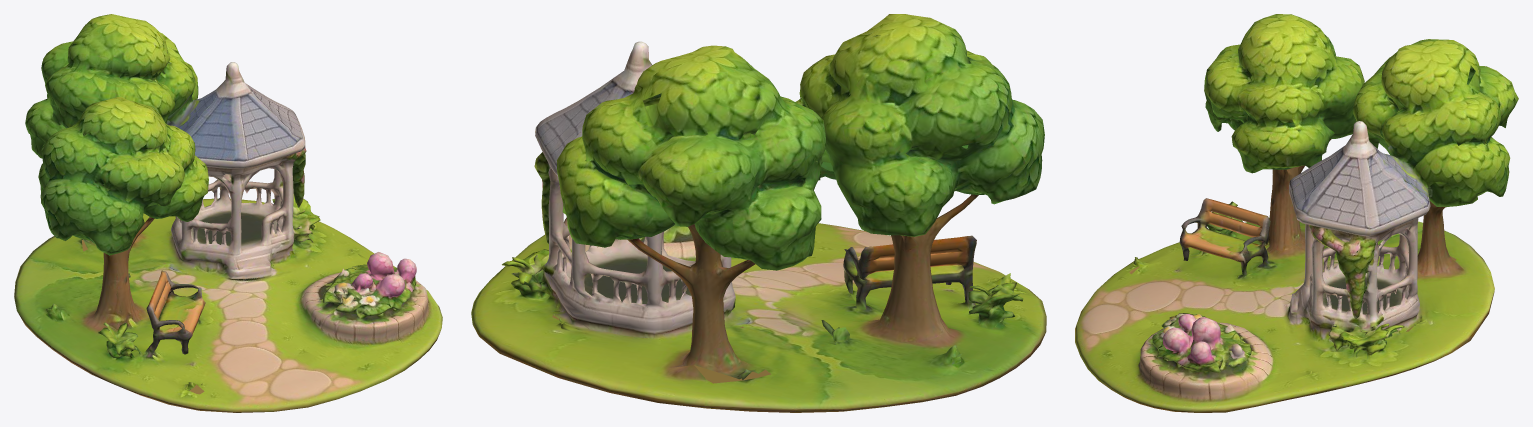
The model's file is 19-park.glb.
3 renders of one model, left to right at view 1: azimuth 30°, elevation 25°; view 2: azimuth 150°, elevation 25°; view 3: azimuth 270°, elevation 25°, orthographic. The views are drawn at different scales.
Parts seen in each view (by area): view 1: tripo_node_1da12d87-9bb7-4916-8aec-81177b2e7ab4; view 2: tripo_node_1da12d87-9bb7-4916-8aec-81177b2e7ab4; view 3: tripo_node_1da12d87-9bb7-4916-8aec-81177b2e7ab4.
Boxes of the visible parts, box(x1,y1,x2,y2) form: tripo_node_1da12d87-9bb7-4916-8aec-81177b2e7ab4: box(14, 14, 442, 412); tripo_node_1da12d87-9bb7-4916-8aec-81177b2e7ab4: box(471, 14, 1046, 412); tripo_node_1da12d87-9bb7-4916-8aec-81177b2e7ab4: box(1075, 14, 1518, 412).
Size of the model in its own units: 0.9504 by 0.6642 by 0.9699.
Materials: 1 (1 with a texture image).
